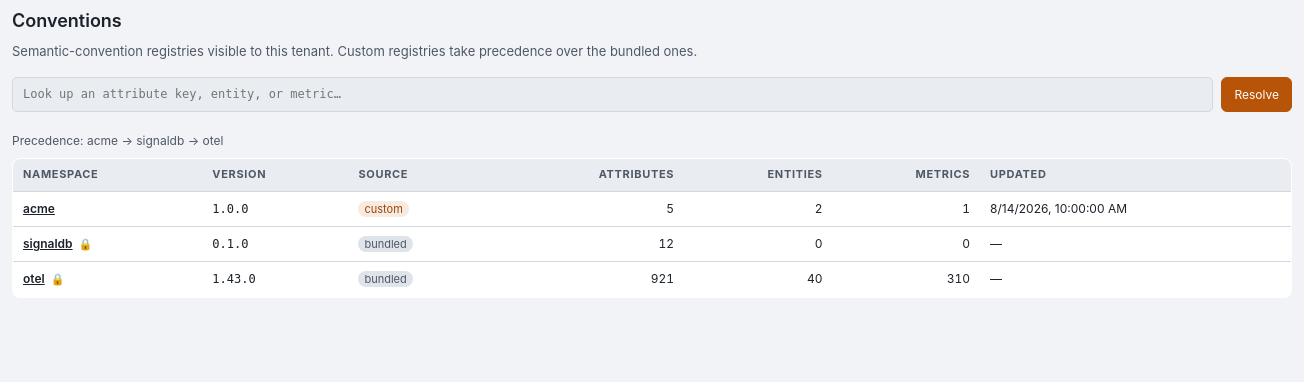
Test case: RegistryList › falls through to entities when the name is not an attribute
Expected: the link "otel" is shown, [23,271,45,286]
Type "k8s.pod" into the field named "Lookup" at coordinates (613, 95), box [12,77,1214,112]
Then press Enter
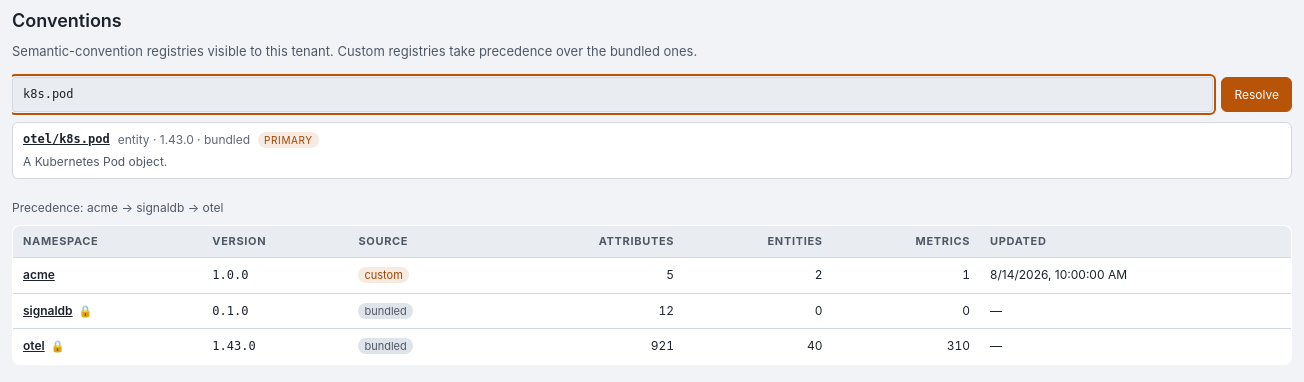
Expected: the list item with aria-label "hit" shows "entity", [118,132,150,147]
Expected: the list item with aria-label "hit" shows "A Kubernetes Pod object.", [23,154,167,169]
